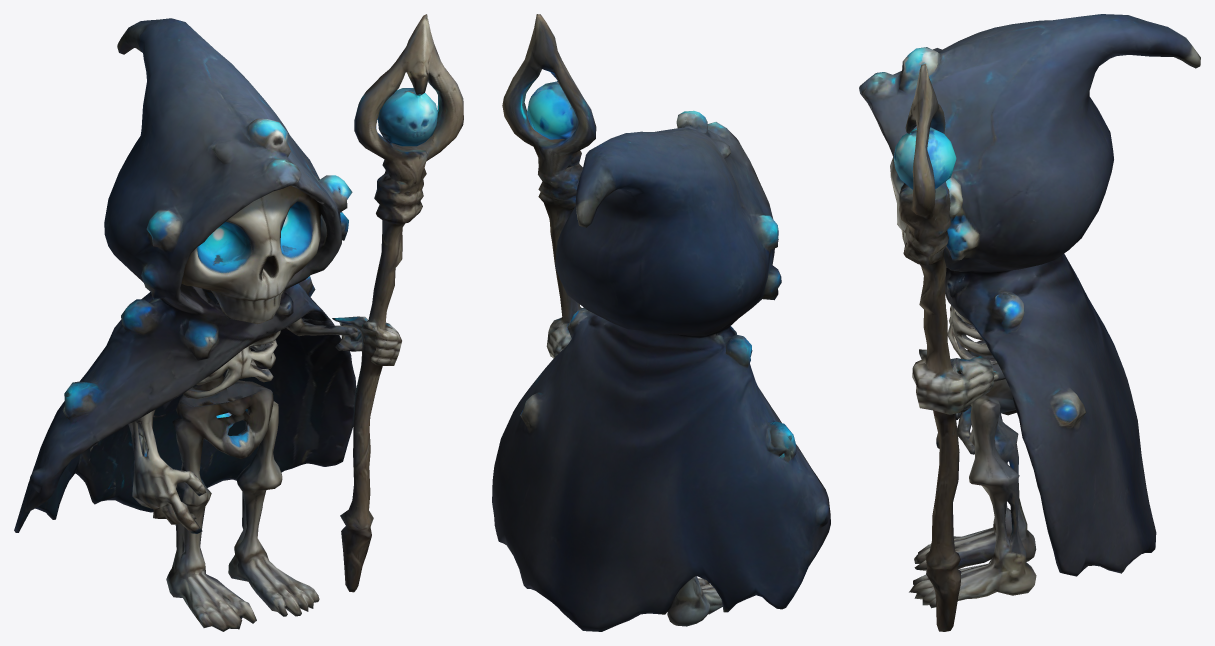
Rendered from cartoonish-skeleton-with-a-large-skull.glb.
3 views of the same model, side by side, from view 1: azimuth 30°, elevation 25°; view 2: azimuth 150°, elevation 25°; view 3: azimuth 270°, elevation 25° (orthographic). The views are drawn at different scales.
Bounding box in the file's own units: 1.43 × 2.01 × 1.03.
Materials: 1 (1 with a texture image).
